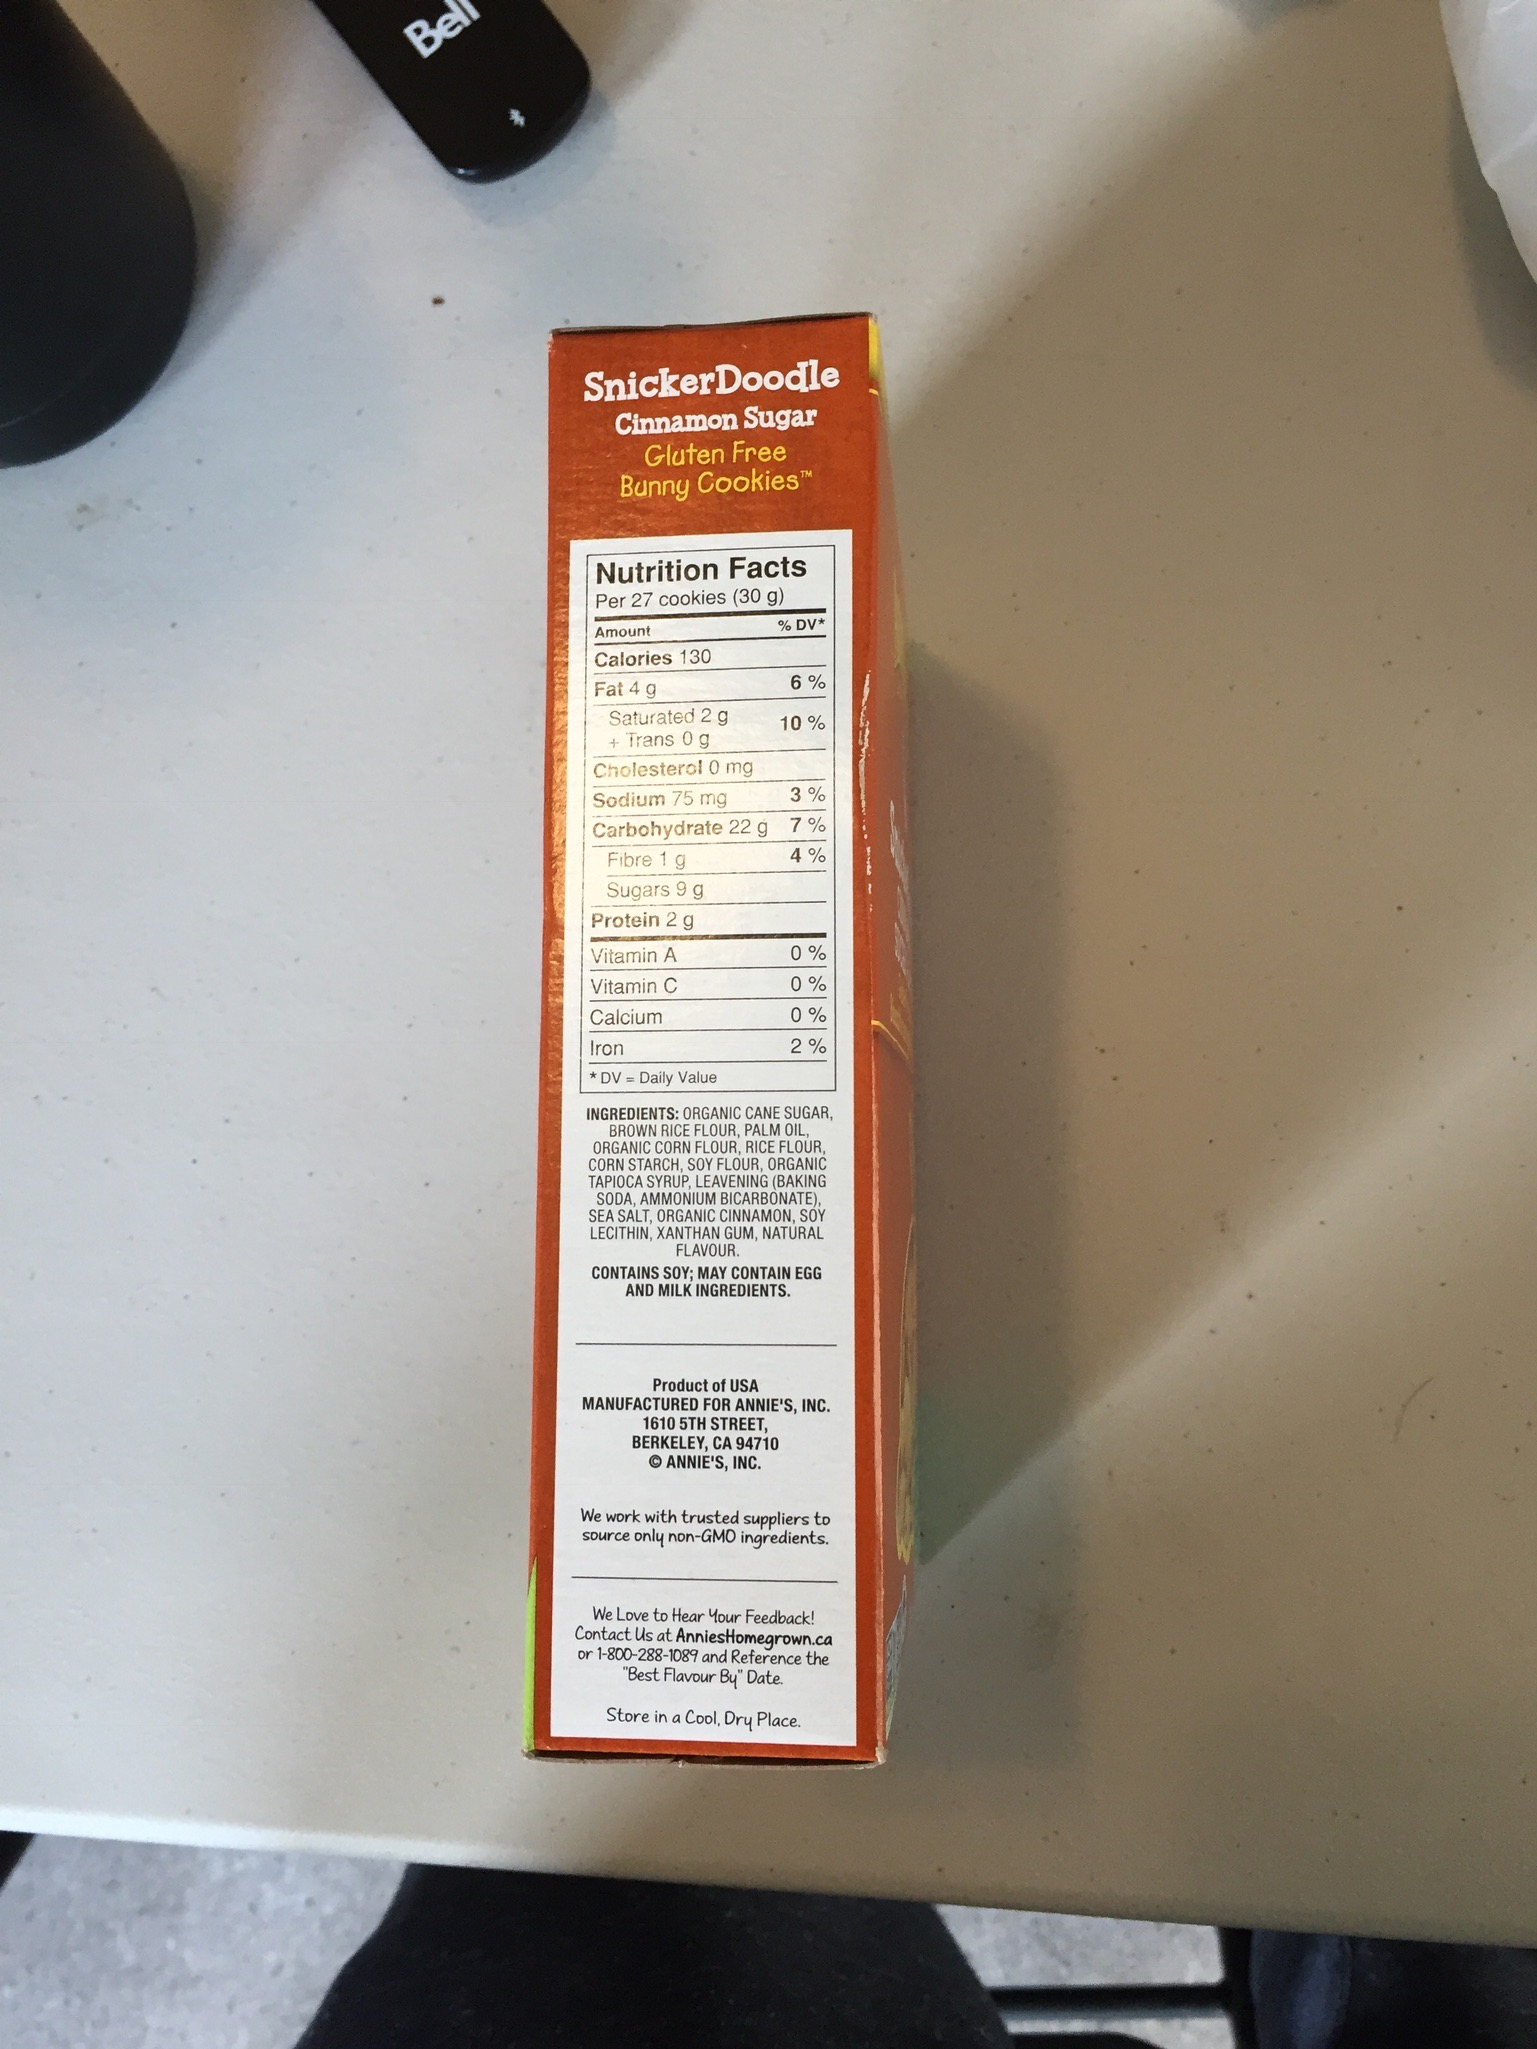annies_snickerdoodle_cinnamon_sugar: (560, 334, 873, 1755)
